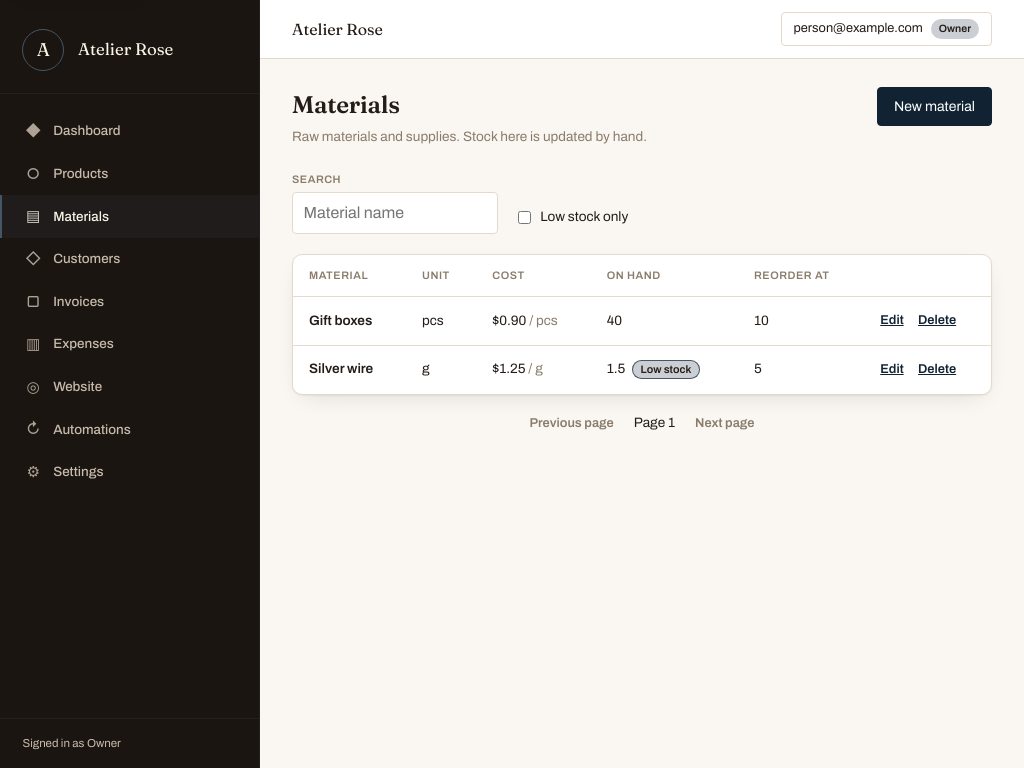
Test: create and edit › edits a material, sending only what changed
Click the button with aria-label "Edit Silver wire". click: x=892, y=370
box: 880,357 -> 904,382
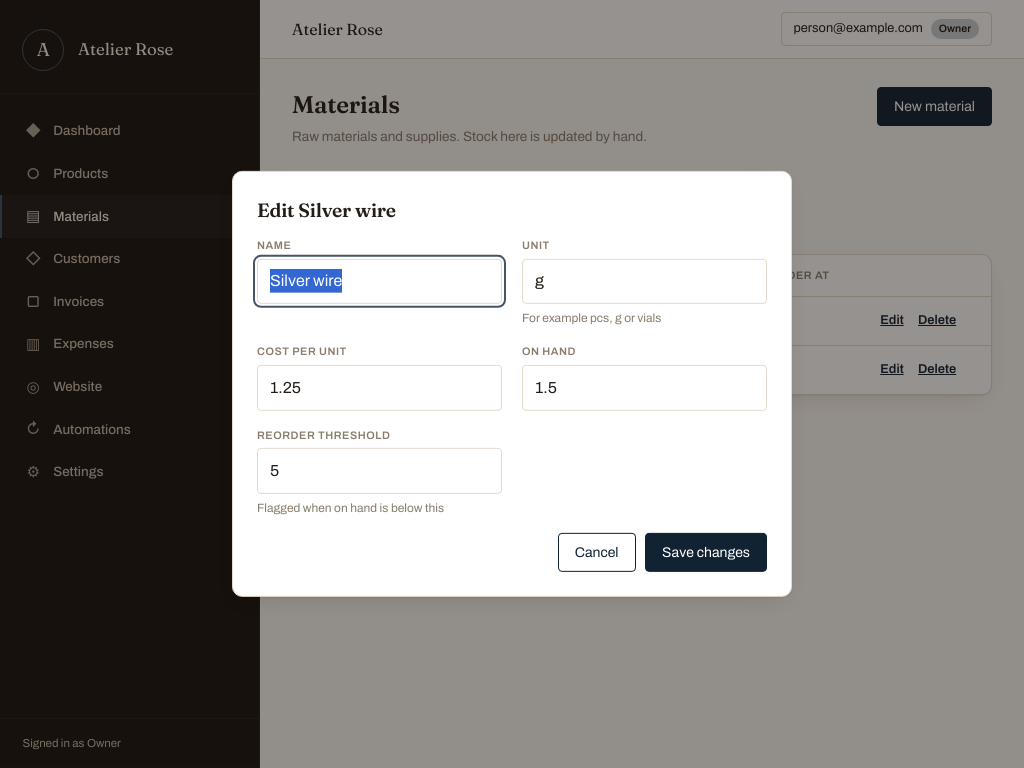
Expected: the field labelled "On hand" holds "1.5"
Expected: the field labelled "Cost per unit" holds "1.25", 257,365 -> 502,410
Replace the text in the field labelled "On hand" with "8". click: x=644, y=388
box: 522,365 -> 767,410
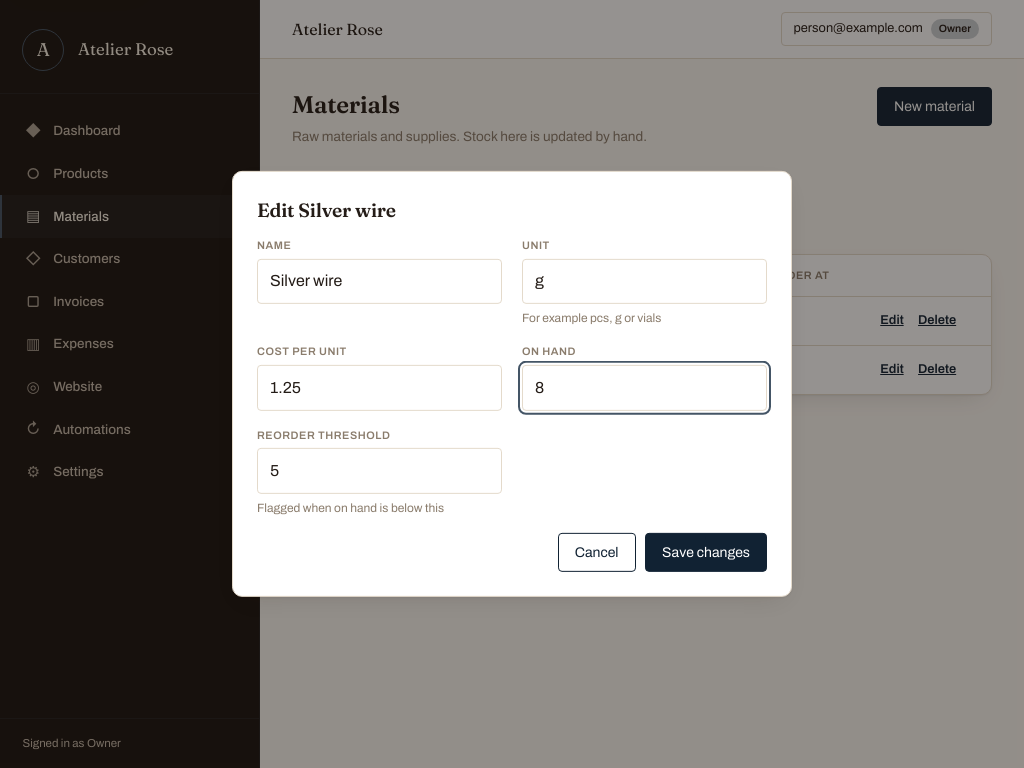
Click the button "Save changes". click: x=706, y=553
box: 645,533 -> 767,572
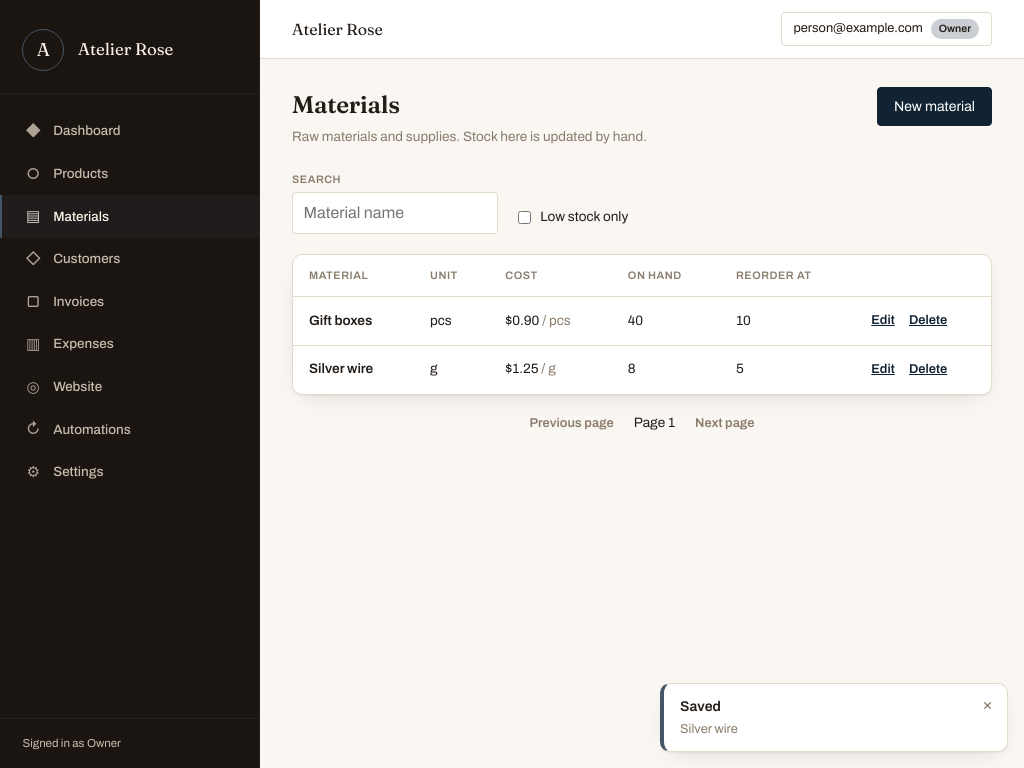
Expected: the dialog is gone
Expected: the text "8" is shown, 612,345 -> 720,394
